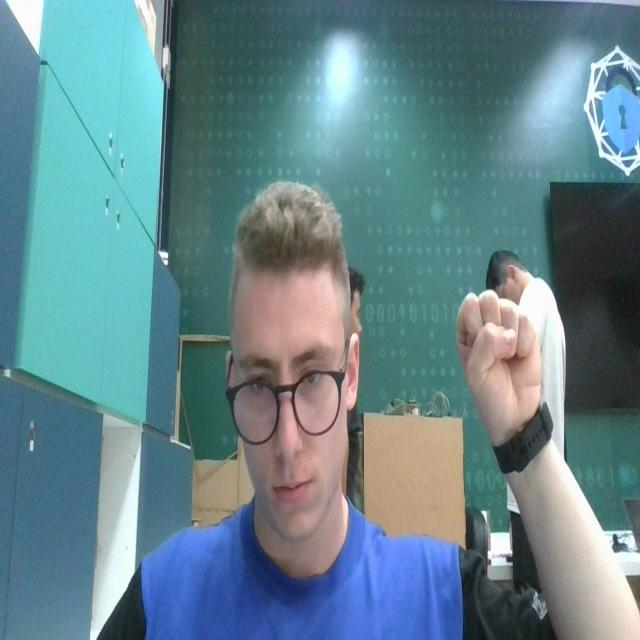S: (453, 291, 549, 425)
